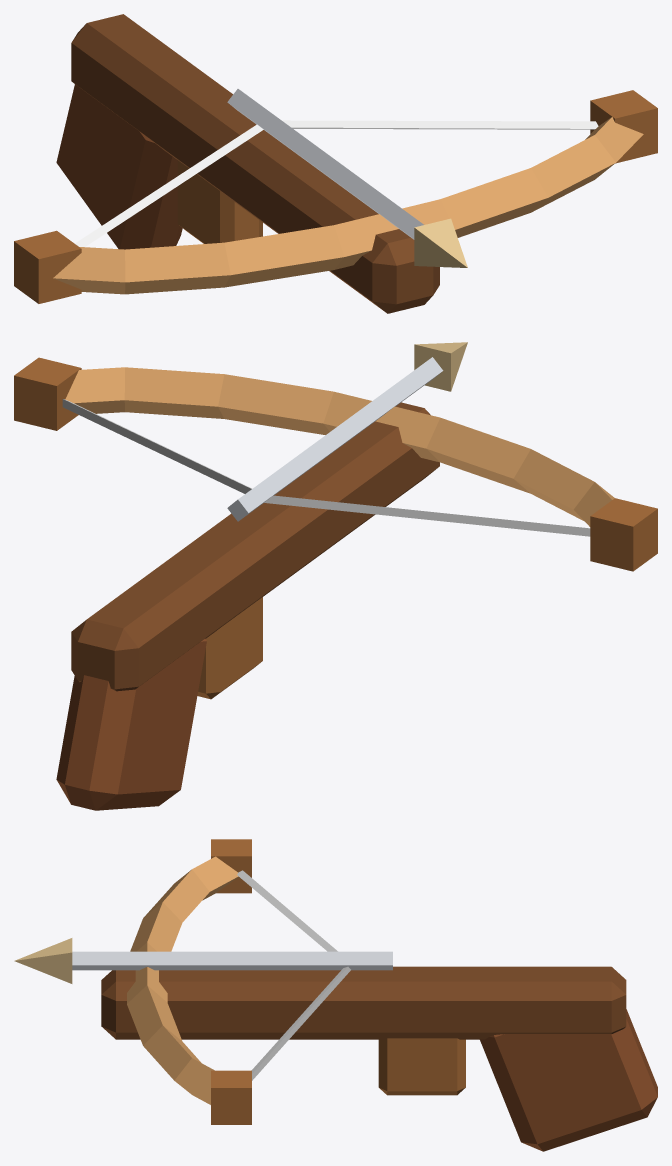
File: WoodCrossbow.fbx
The picture shows the model from 3 angles, top to bottom: view 1: azimuth 30°, elevation 25°; view 2: azimuth 150°, elevation 25°; view 3: azimuth 270°, elevation 25°; orthographic projection. The views are drawn at different scales.
Parts seen in each view (by area): view 1: WoodCrossbow; view 2: WoodCrossbow; view 3: WoodCrossbow.
Boxes of the visible parts, x1,y1,x2,y2 form: WoodCrossbow: (14,14,657,313); WoodCrossbow: (14,342,657,810); WoodCrossbow: (14,839,657,1151).
Bounding box in the file's own units: 2.02 × 0.7634 × 2.21.
Materials: 1 (1 with a texture image).
